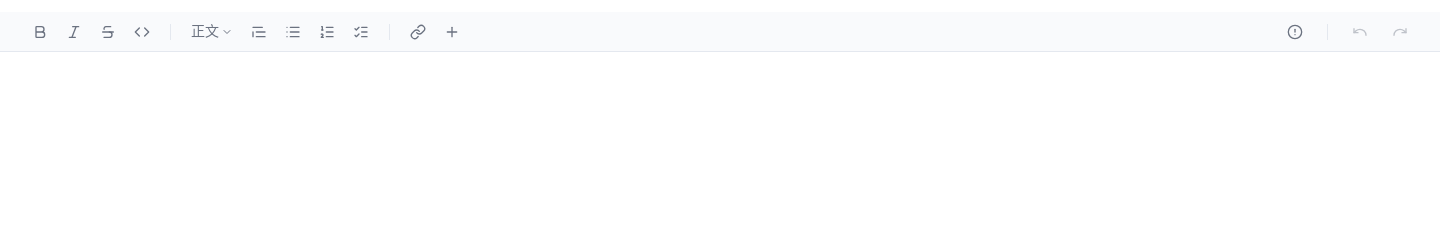
Test: FormatToolbar / 插入菜单 › 插入类命令收进「插入」菜单，菜单项触发对应命令
Expected: the button "表格" is not shown
Click the button named "插入": (452, 32) [436,16,468,48]
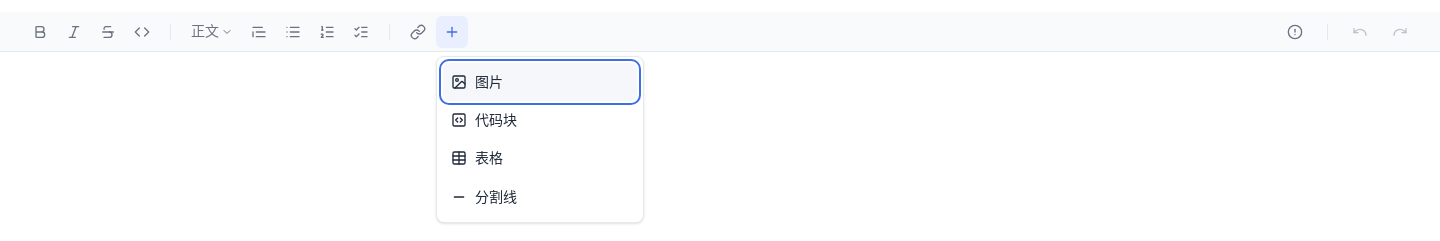
Click the menu item "表格": (540, 158) [443,139,637,178]
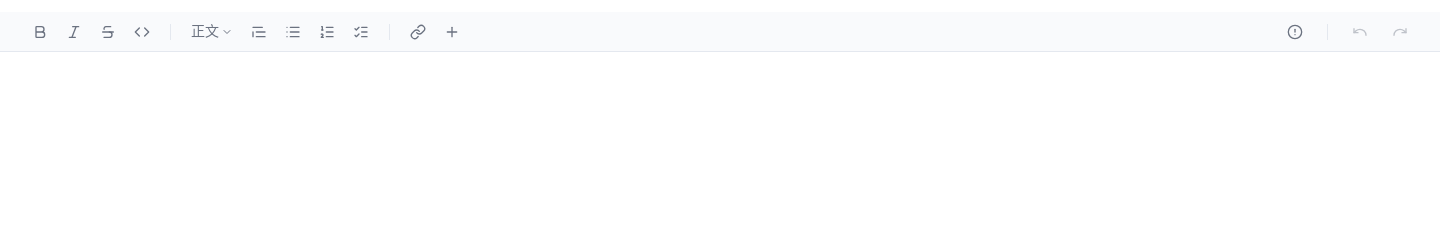
Result: the menu is gone
